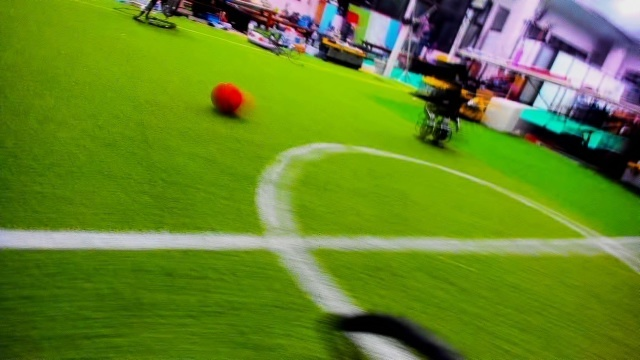ball: (210, 79, 246, 119)
eros: (416, 69, 468, 155)
x_line: (236, 197, 342, 283), (561, 205, 640, 276)
